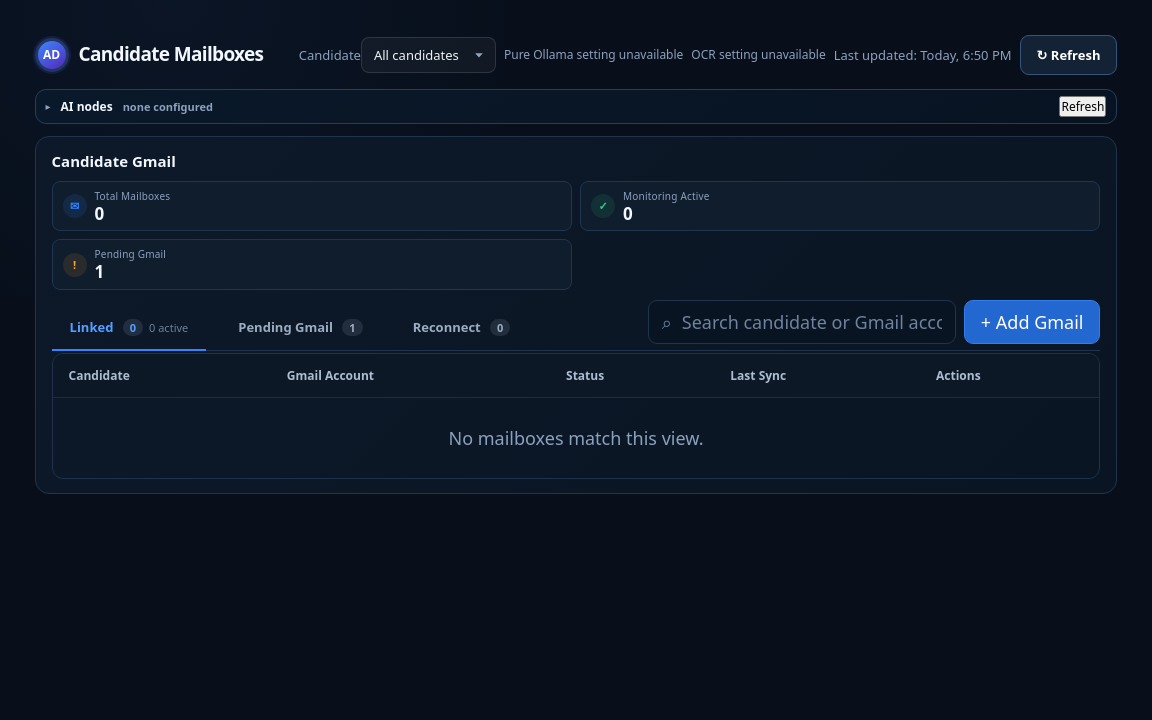
Test: RecruitmentMailPanel › opens Gmail connection inline from the main review screen
What coordinates should you click on to do the following:
click the button "+ Add Gmail"
I would click on:
 (1032, 322)
Its box is [964,300,1100,344].
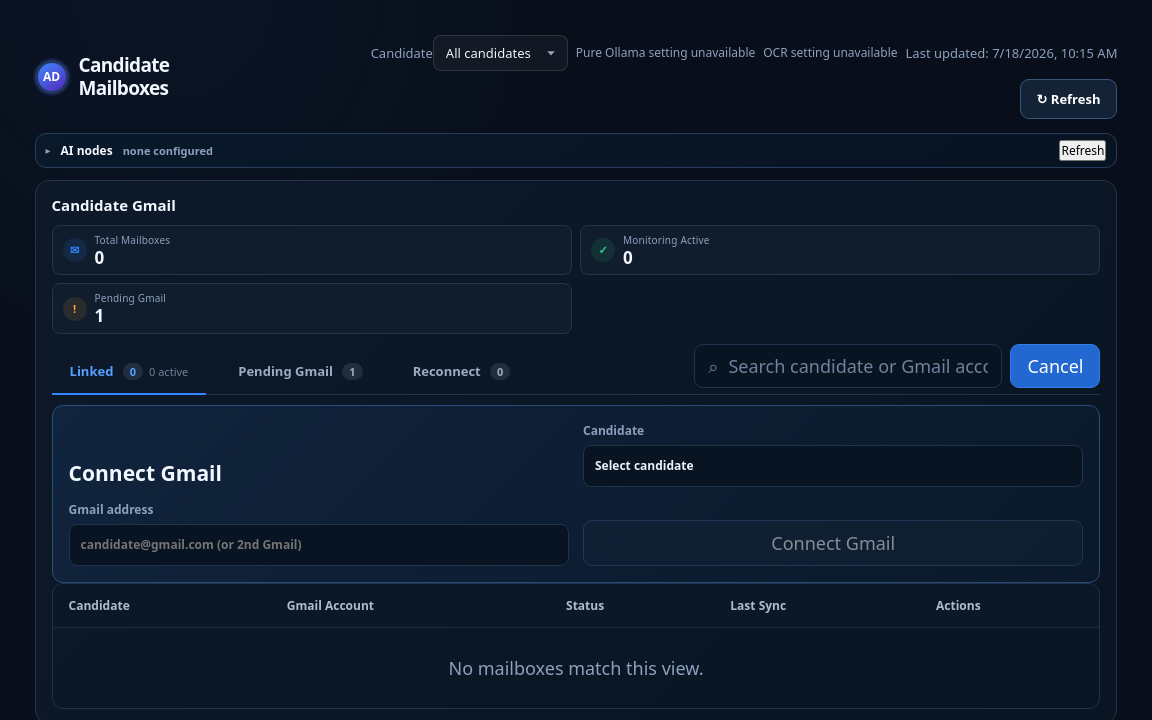
expect the heading "Connect Gmail" is shown: met, box [68,458,222,487]
expect the button "Cancel" is shown: met, box [1010,344,1100,388]
